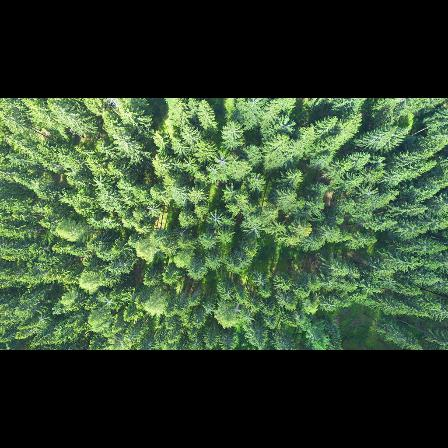Sick: (245, 219, 267, 241), (356, 182, 381, 201), (213, 148, 232, 169), (205, 209, 226, 228), (98, 292, 120, 309), (250, 270, 269, 289), (203, 161, 222, 179), (180, 155, 197, 172), (145, 200, 162, 217), (199, 301, 216, 318), (91, 174, 110, 189), (238, 309, 256, 324), (35, 312, 53, 326)
